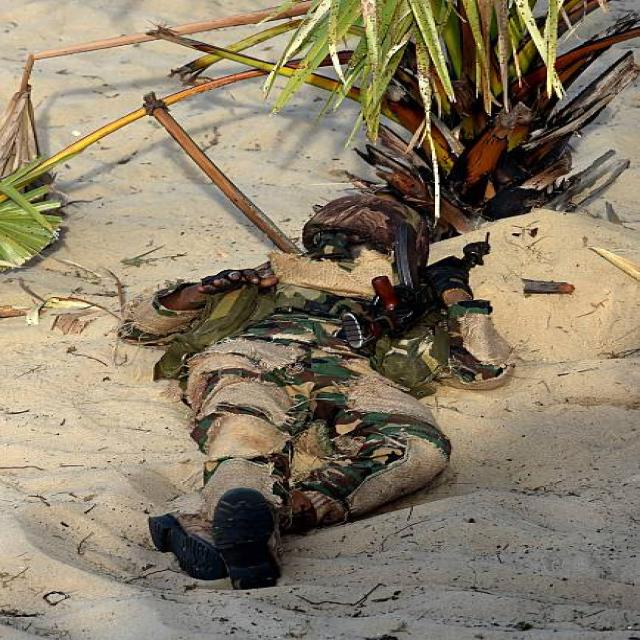soldier: (122, 193, 518, 588)
